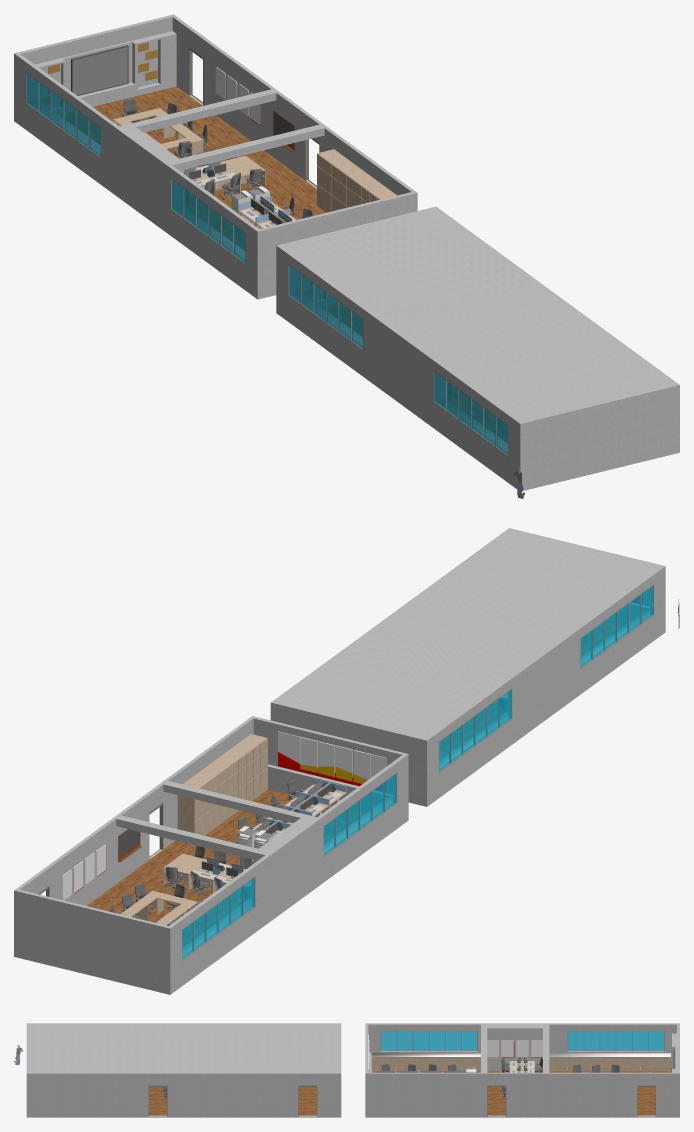
File: office_room.glb
3 views of the same model, one above another, from view 1: azimuth 30°, elevation 25°; view 2: azimuth 150°, elevation 25°; view 3: azimuth 270°, elevation 25° (orthographic). The views are drawn at different scales.
Parts seen in each view (by area): view 1: Object_46, Object_8, Object_76, Object_84, Object_52, Object_50, Object_70, Object_26; view 2: Object_46, Object_8, Object_76, Object_52, Object_84, Object_50, Object_26, Object_70; view 3: Object_46, Object_76, Object_52, Object_84, Object_8, Object_50, Object_26, Object_98, Object_74.
Part boxes in pixels (left/top/right/bottom): Object_46: left=14, top=14, right=679, bottom=490; Object_8: left=25, top=42, right=524, bottom=499; Object_76: left=26, top=74, right=507, bottom=454; Object_84: left=60, top=86, right=507, bottom=442; Object_52: left=113, top=108, right=454, bottom=397; Object_50: left=30, top=99, right=507, bottom=451; Object_70: left=71, top=45, right=294, bottom=224; Object_26: left=109, top=98, right=313, bottom=222; Object_46: left=14, top=528, right=665, bottom=994; Object_8: left=62, top=584, right=679, bottom=960; Object_76: left=182, top=586, right=652, bottom=958; Object_52: left=120, top=693, right=507, bottom=925; Object_84: left=87, top=622, right=621, bottom=946; Object_50: left=183, top=609, right=649, bottom=955; Object_26: left=109, top=710, right=502, bottom=925; Object_70: left=119, top=783, right=331, bottom=876; Object_46: left=26, top=1023, right=679, bottom=1117; Object_76: left=381, top=1031, right=663, bottom=1050; Object_52: left=371, top=1057, right=670, bottom=1072; Object_84: left=149, top=1067, right=671, bottom=1115; Object_8: left=14, top=1031, right=664, bottom=1100; Object_50: left=371, top=1053, right=670, bottom=1057; Object_26: left=163, top=1057, right=619, bottom=1095; Object_98: left=148, top=1085, right=655, bottom=1116; Object_74: left=549, top=1057, right=670, bottom=1071.
Bounding box in the file's own units: 363 × 140 × 1915.
Materials: 16 (16 with a texture image).
